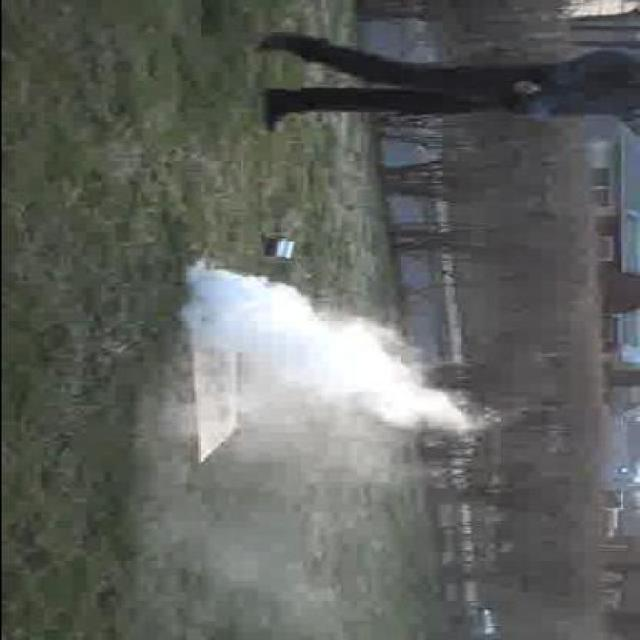Smoke: (184, 266, 486, 436)
